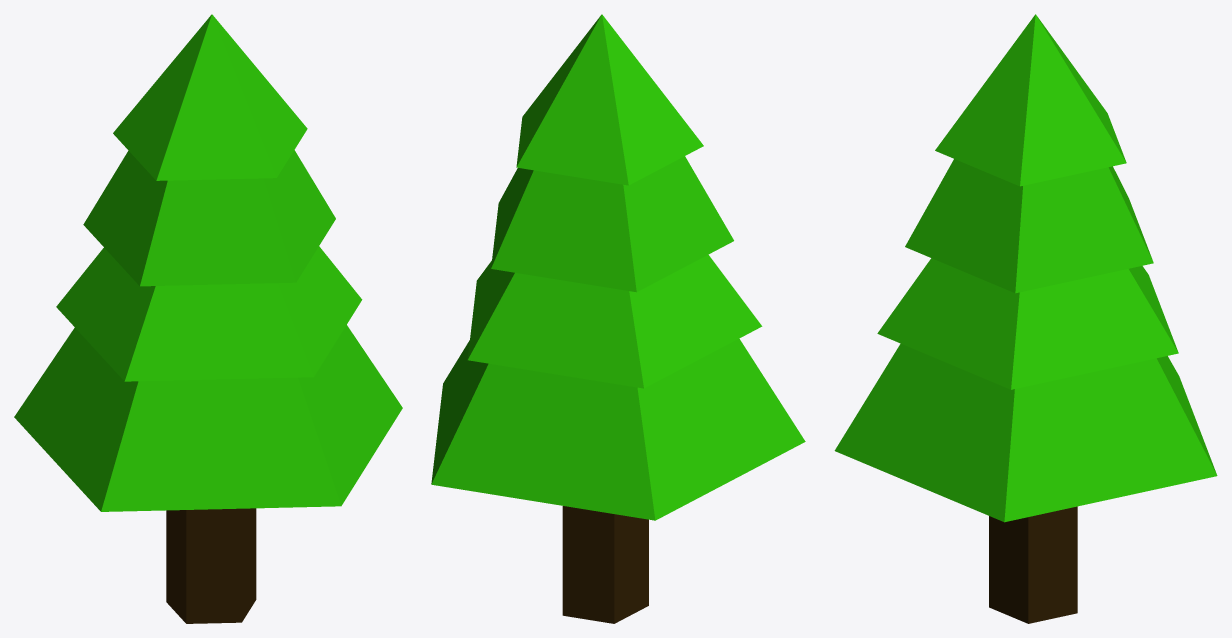
The model's file is Tree_1.fbx.
3 views of the same model, side by side, from view 1: azimuth 30°, elevation 25°; view 2: azimuth 150°, elevation 25°; view 3: azimuth 270°, elevation 25° (orthographic).
Visible parts, largest first — view 1: Tree1; view 2: Tree1; view 3: Tree1.
Boxes of the visible parts, left/top/right/bottom form: Tree1: left=14, top=14, right=402, bottom=623; Tree1: left=431, top=14, right=805, bottom=623; Tree1: left=834, top=14, right=1217, bottom=623.
Bounding box in the file's own units: 233 × 397 × 234.
